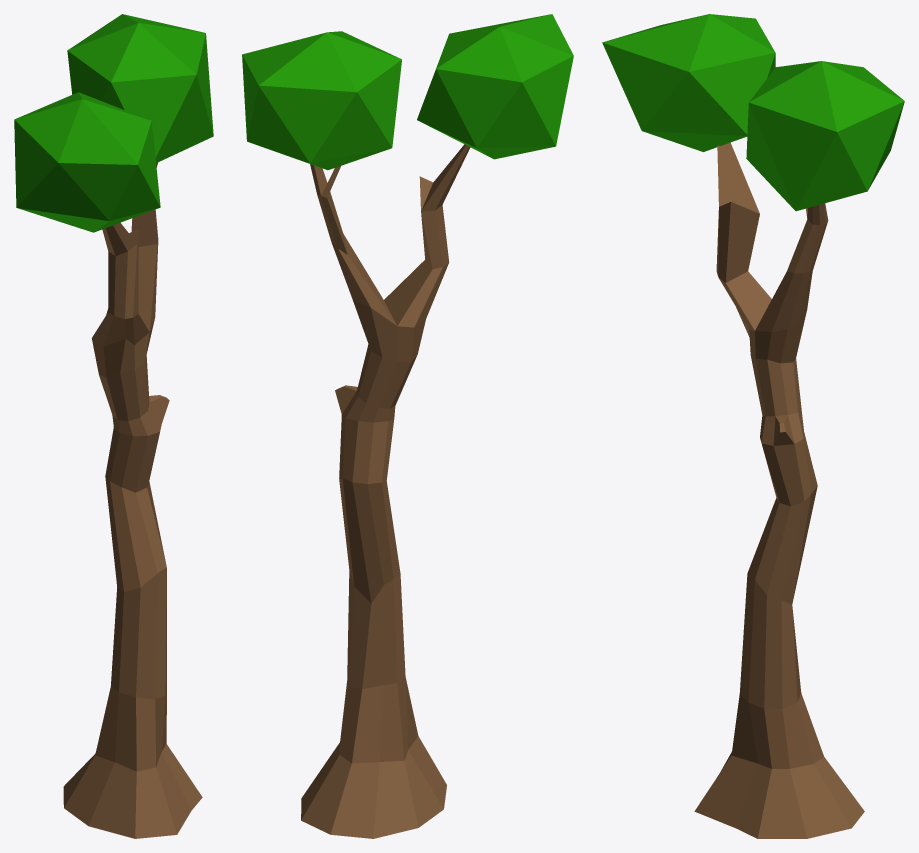
The model's file is LiveTree2.fbx.
3 renders of one model, left to right at view 1: azimuth 30°, elevation 25°; view 2: azimuth 150°, elevation 25°; view 3: azimuth 270°, elevation 25°, orthographic. The views are drawn at different scales.
Visible parts, largest first — view 1: Tree.003, Icosphere.040, Icosphere.041; view 2: Tree.003, Icosphere.041, Icosphere.040; view 3: Tree.003, Icosphere.041, Icosphere.040.
Part boxes in pixels (x1,y1,x2,y2): Tree.003: (63,162,202,838); Icosphere.040: (14,92,160,232); Icosphere.041: (67,14,213,163); Tree.003: (301,144,470,838); Icosphere.041: (242,31,401,170); Icosphere.040: (417,14,573,159); Tree.003: (694,142,864,838); Icosphere.041: (746,61,904,211); Icosphere.040: (602,14,775,151).
Size of the model in its own units: 236 by 693 by 249.
